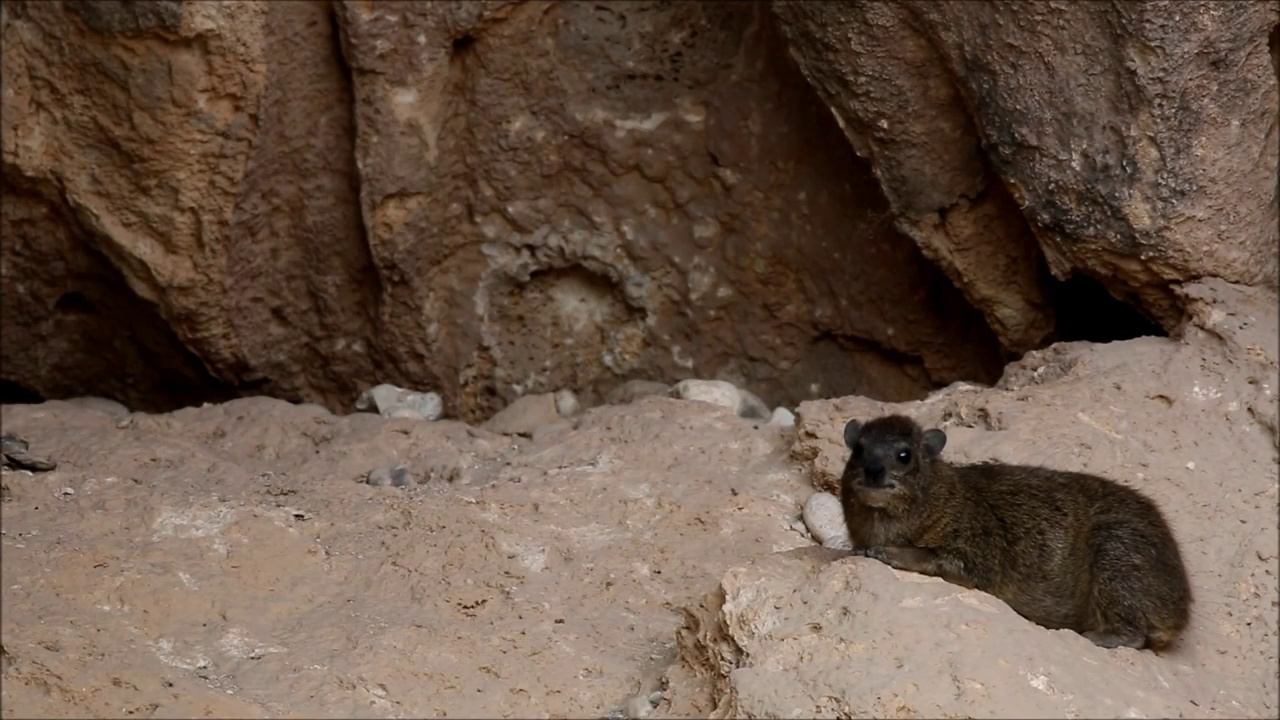Rock Hyrex: (841, 415, 1198, 655)
